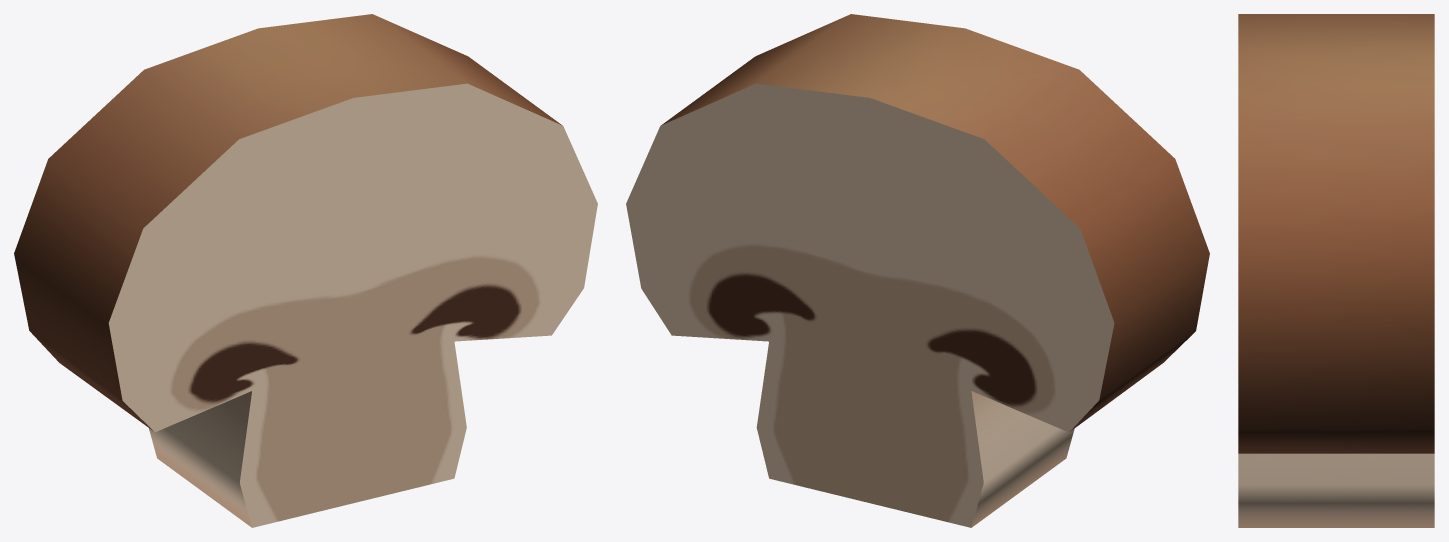
File: Mushroom_Brown_Slice.fbx
3 views of the same model, side by side, from view 1: azimuth 30°, elevation 25°; view 2: azimuth 150°, elevation 25°; view 3: azimuth 270°, elevation 25° (orthographic). The views are drawn at different scales.
Visible parts, largest first — view 1: Mushroom_Brown_Slice; view 2: Mushroom_Brown_Slice; view 3: Mushroom_Brown_Slice.
Part boxes in pixels (x1,y1,x2,y2): Mushroom_Brown_Slice: (14,14,597,527); Mushroom_Brown_Slice: (626,14,1209,527); Mushroom_Brown_Slice: (1238,14,1434,527).
Bounding box in the file's own units: 34.11 × 27 × 11.47.
